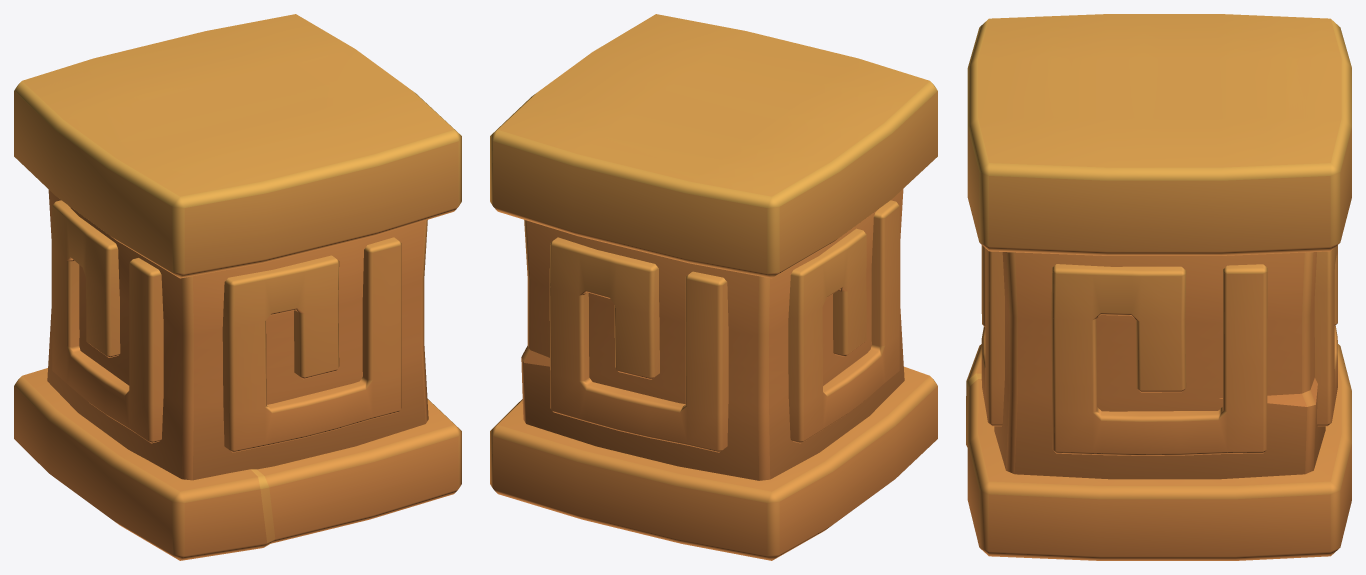
File: pillar_large_segment_1.fbx
3 views of the same model, side by side, from view 1: azimuth 30°, elevation 25°; view 2: azimuth 150°, elevation 25°; view 3: azimuth 270°, elevation 25° (orthographic). The views are drawn at different scales.
Visible parts, largest first — view 1: pillar_large_segment_1; view 2: pillar_large_segment_1; view 3: pillar_large_segment_1.
Boxes of the visible parts, left/top/right/bottom form: pillar_large_segment_1: left=14, top=14, right=461, bottom=560; pillar_large_segment_1: left=490, top=14, right=937, bottom=560; pillar_large_segment_1: left=966, top=14, right=1351, bottom=560.
Bounding box in the file's own units: 273 × 310 × 275.
